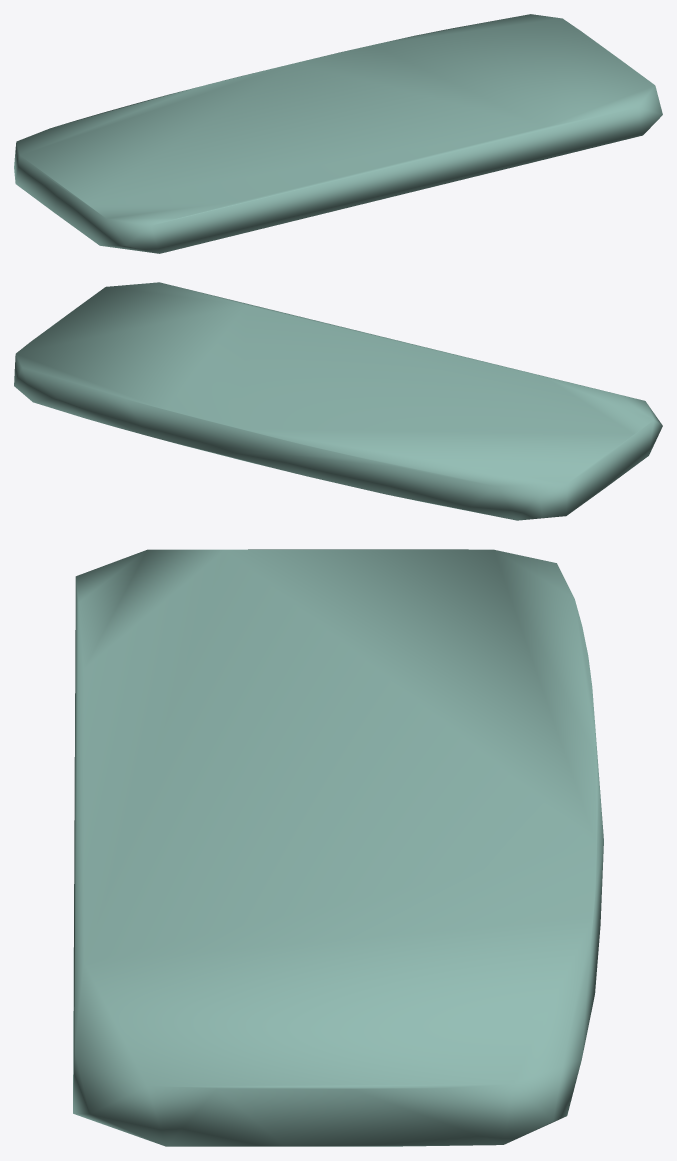
3 views of the same model, one above another, from view 1: azimuth 30°, elevation 25°; view 2: azimuth 150°, elevation 25°; view 3: azimuth 270°, elevation 25° (orthographic). The views are drawn at different scales.
Bounding box in the file's own units: 1.9 × 0.1033 × 0.7918.
